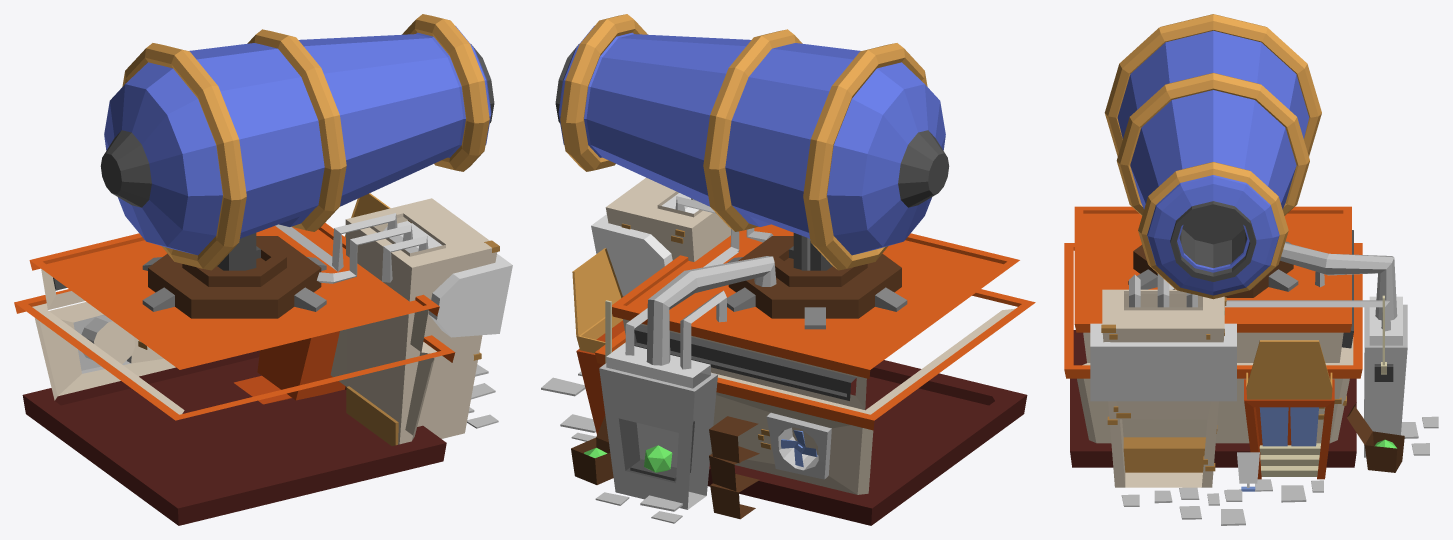
Rendered from shopshop.fbx.
3 views of the same model, side by side, from view 1: azimuth 30°, elevation 25°; view 2: azimuth 150°, elevation 25°; view 3: azimuth 270°, elevation 25° (orthographic). The views are drawn at different scales.
Visible parts, largest first — view 1: 立方体, 柱体.001, 柱体, 平面, 立方体.001, 平面.005, 立方体.002, 柱体.002, brik; view 2: 柱体.001, 立方体, 立方体.003, 柱体, 平面.005, 平面, 平面.004, 立方体.007, brik, 立方体.004, 柱体.002, 立方体.001 (+2 smaller); view 3: 柱体.001, 立方体, 平面, 平面.005, 立方体.003, 平面.004, 立方体.001, brik, 立方体.002, 立方体.004, 柱体, 柱体.002 (+3 smaller).
Boxes of the visible parts, x1,y1,x2,y2 form: 立方体: [14, 198, 497, 525]; 柱体.001: [100, 14, 494, 270]; 柱体: [148, 236, 321, 318]; 平面: [383, 221, 512, 337]; 立方体.001: [234, 331, 345, 404]; 平面.005: [275, 213, 428, 283]; 立方体.002: [346, 386, 398, 445]; 柱体.002: [142, 257, 326, 311]; brik: [467, 364, 498, 428]; 柱体.001: [555, 14, 949, 270]; 立方体: [594, 177, 1035, 525]; 立方体.003: [599, 343, 717, 509]; 柱体: [728, 236, 901, 318]; 平面.005: [625, 196, 776, 369]; 平面: [591, 193, 698, 295]; 平面.004: [572, 248, 622, 353]; 立方体.007: [709, 416, 759, 519]; brik: [541, 371, 682, 523]; 立方体.004: [571, 416, 613, 484]; 柱体.002: [727, 257, 907, 329]; 立方体.001: [576, 320, 624, 434]; 柱体.001: [1104, 14, 1321, 299]; 立方体: [1064, 206, 1362, 487]; 平面: [1090, 323, 1236, 401]; 平面.005: [1129, 242, 1397, 331]; 立方体.003: [1364, 296, 1407, 457]; 平面.004: [1246, 340, 1332, 399]; 立方体.001: [1244, 379, 1334, 479]; brik: [1121, 416, 1438, 525]; 立方体.002: [1123, 437, 1205, 472]; 立方体.004: [1347, 403, 1404, 472]; 柱体: [1133, 245, 1293, 297]; 柱体.002: [1128, 241, 1298, 291].
Bounding box in the file's own units: 296 × 288 × 261.
